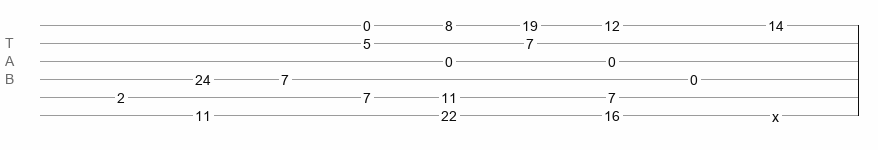0: (363, 18, 371, 28), (445, 54, 453, 64), (608, 54, 616, 64), (690, 72, 698, 82)
11: (195, 108, 211, 118), (441, 90, 457, 100)
12: (604, 18, 620, 28)
14: (768, 18, 784, 28)
16: (604, 108, 620, 118)
19: (522, 18, 538, 28)
2: (117, 90, 125, 100)
22: (441, 108, 457, 118)
24: (195, 72, 211, 82)
5: (363, 36, 371, 46)
7: (281, 72, 289, 82), (363, 90, 371, 100), (526, 36, 534, 46), (608, 90, 616, 100)
8: (445, 18, 453, 28)
x: (772, 109, 779, 117)
